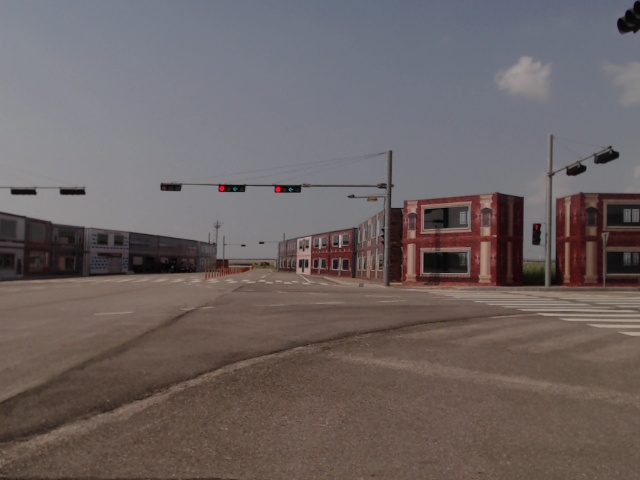left_green_4: (219, 185, 245, 192), (276, 186, 301, 192)
